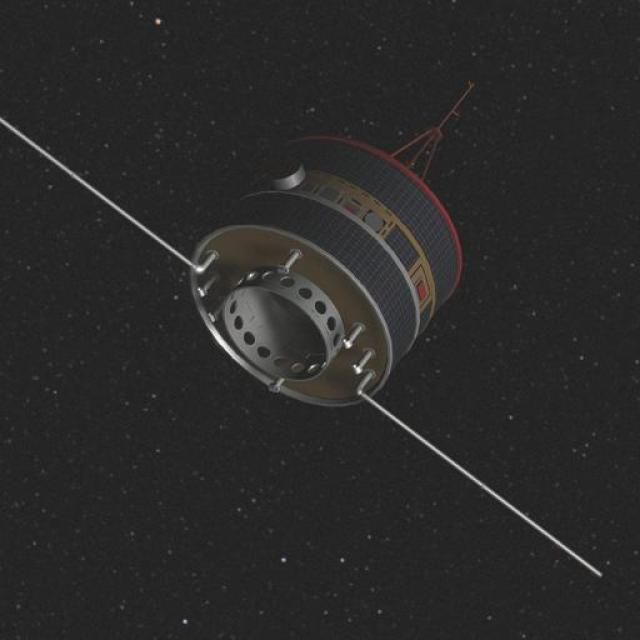double_start: (160, 98, 493, 424)
